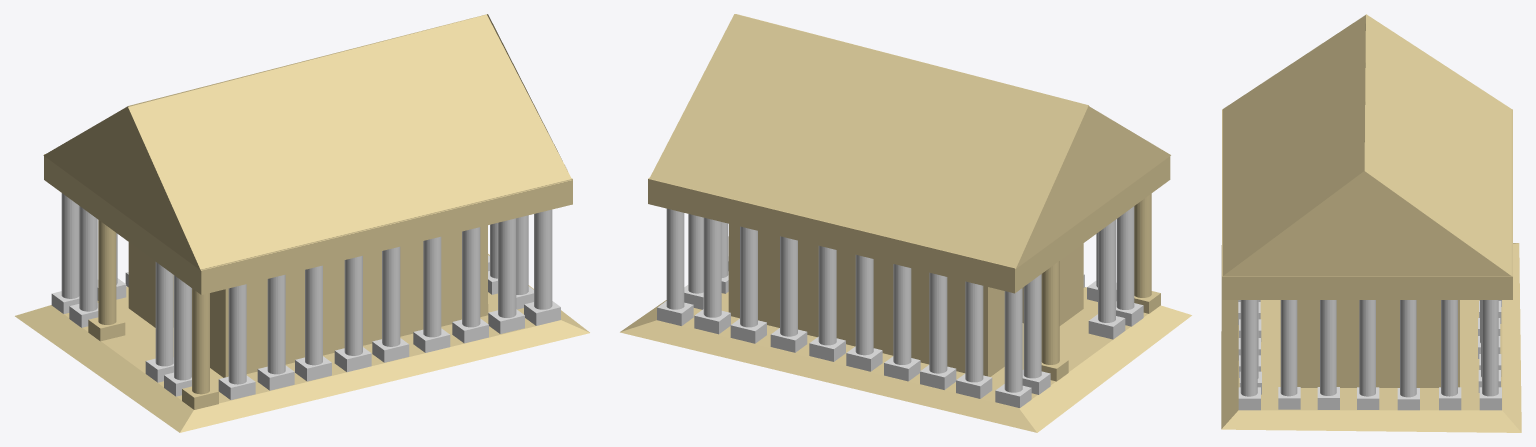
File: Greek_Mausoleum_3.glb
3 renders of one model, left to right at view 1: azimuth 30°, elevation 25°; view 2: azimuth 150°, elevation 25°; view 3: azimuth 270°, elevation 25°, orthographic. The views are drawn at different scales.
Visible parts, largest first — view 1: pillar.015; view 2: pillar.015; view 3: pillar.015.
Boxes of the visible parts, x1,y1,x2,y2 form: pillar.015: [15, 14, 589, 432]; pillar.015: [620, 14, 1191, 432]; pillar.015: [1221, 14, 1521, 432].
Bounding box in the file's own units: 84.36 × 51.24 × 56.44.
